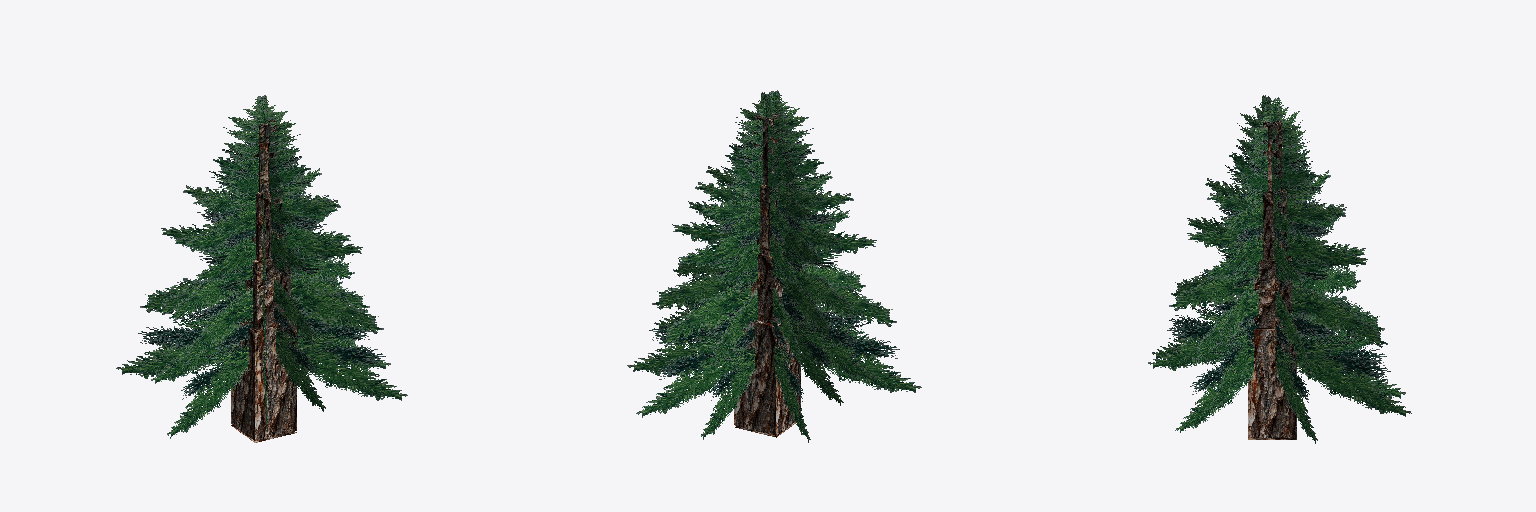
The picture shows the model from 3 angles: view 1: azimuth 30°, elevation 25°; view 2: azimuth 150°, elevation 25°; view 3: azimuth 270°, elevation 25°; orthographic projection.
Visible parts, largest first — view 1: cube; view 2: cube; view 3: cube.
Part boxes in pixels (left/top/right/bottom): cube: left=116, top=95, right=407, bottom=442; cube: left=627, top=90, right=921, bottom=442; cube: left=1148, top=95, right=1411, bottom=443.
Bounding box in the file's own units: 3.63 × 4.86 × 3.41.
1 materials, 1 textured.